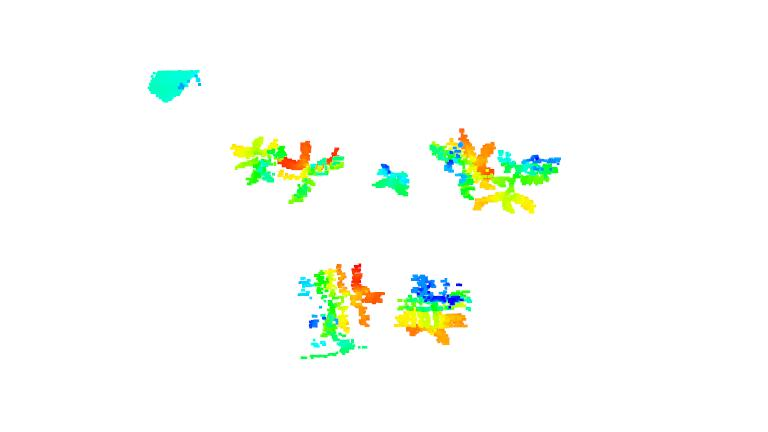chickpea: (296, 264, 387, 345), (471, 147, 561, 214), (395, 274, 473, 348), (428, 127, 496, 203), (278, 139, 345, 206), (231, 135, 283, 186), (371, 161, 411, 196)
